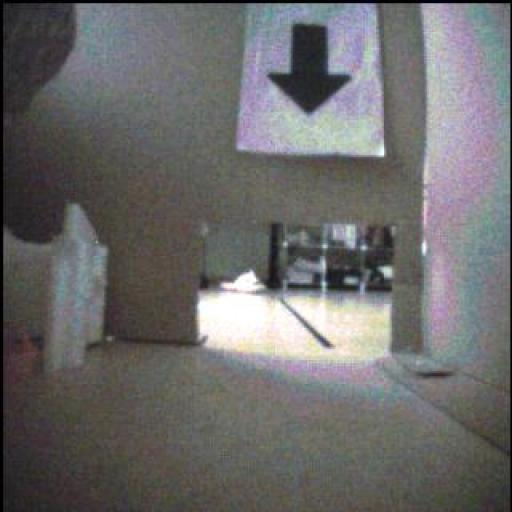arrow: (270, 25, 351, 115)
